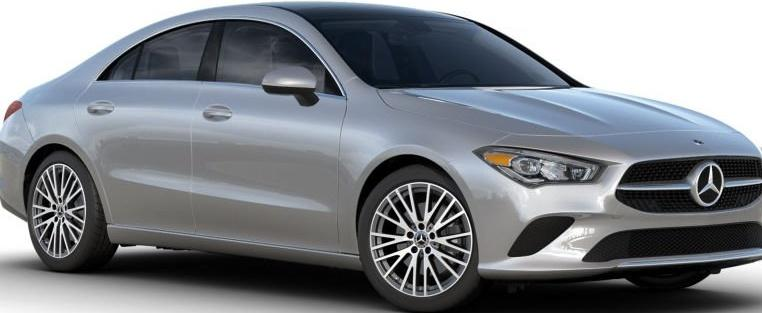Cars: (1, 5, 762, 312)
